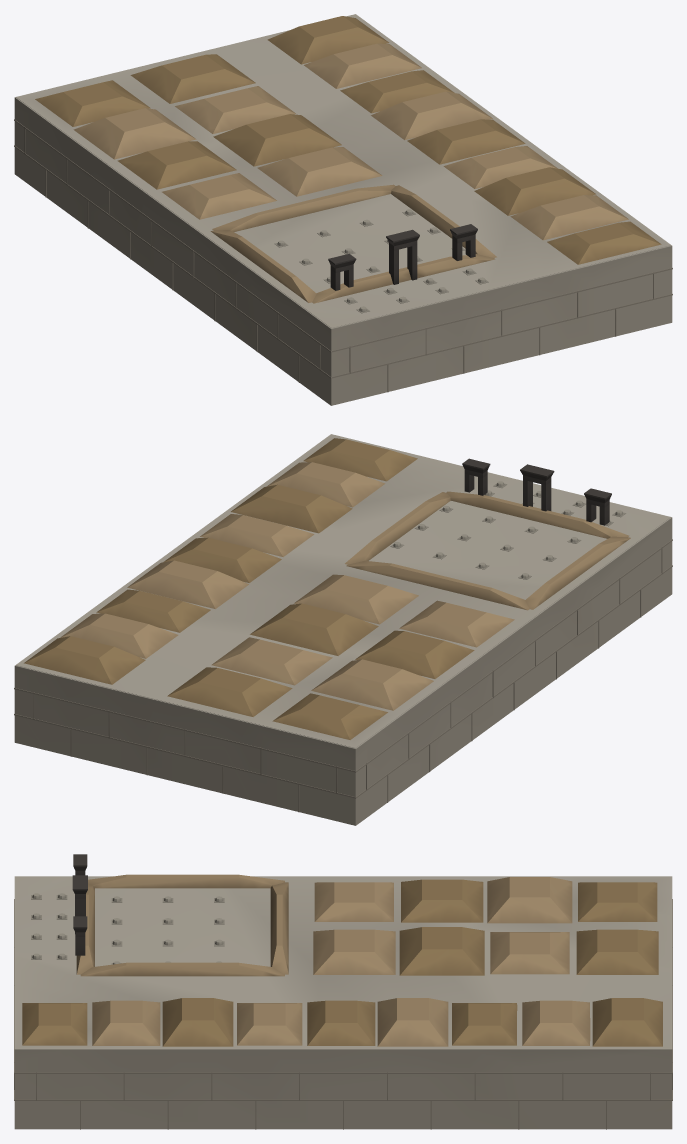
File: harem-ruin.glb
3 renders of one model, top to bottom at view 1: azimuth 30°, elevation 25°; view 2: azimuth 150°, elevation 25°; view 3: azimuth 270°, elevation 25°, orthographic. The views are drawn at different scales.
Parts seen in each view (by area): view 1: p0_terrace, p1_walls; view 2: p0_terrace, p1_walls; view 3: p0_terrace, p1_walls.
Part boxes in pixels (x1,y1,x2,y2): p0_terrace: [14, 14, 672, 405]; p1_walls: [35, 16, 661, 313]; p0_terrace: [14, 434, 672, 825]; p1_walls: [24, 438, 630, 739]; p0_terrace: [14, 876, 672, 1129]; p1_walls: [22, 854, 662, 1046].
Size of the model in its own units: 56.16 by 19.12 by 90.16.
